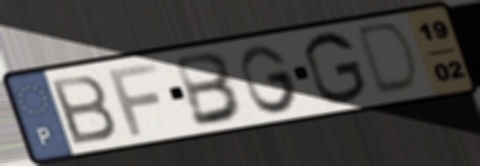B: (171, 50, 247, 130), (46, 71, 120, 147)
D: (355, 20, 423, 99)
F: (104, 60, 162, 138)
G: (300, 29, 370, 107), (237, 42, 303, 116)
